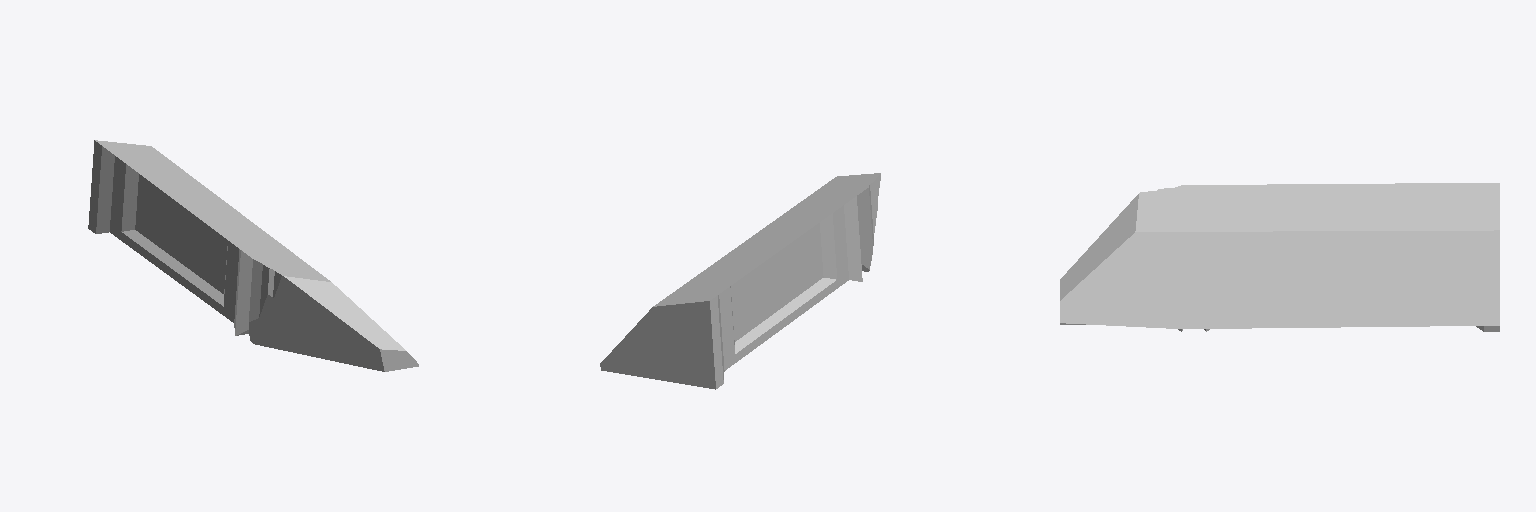
File: Debris7.obj
3 renders of one model, left to right at view 1: azimuth 30°, elevation 25°; view 2: azimuth 150°, elevation 25°; view 3: azimuth 270°, elevation 25°, orthographic.
Visible parts, largest first — view 1: Debris7; view 2: Debris7; view 3: Debris7.
Part boxes in pixels (left/top/right/bottom): Debris7: left=88, top=140, right=418, bottom=371; Debris7: left=600, top=173, right=880, bottom=389; Debris7: left=1060, top=183, right=1499, bottom=331.
Size of the model in its own units: 3.53 by 2.81 by 11.61.